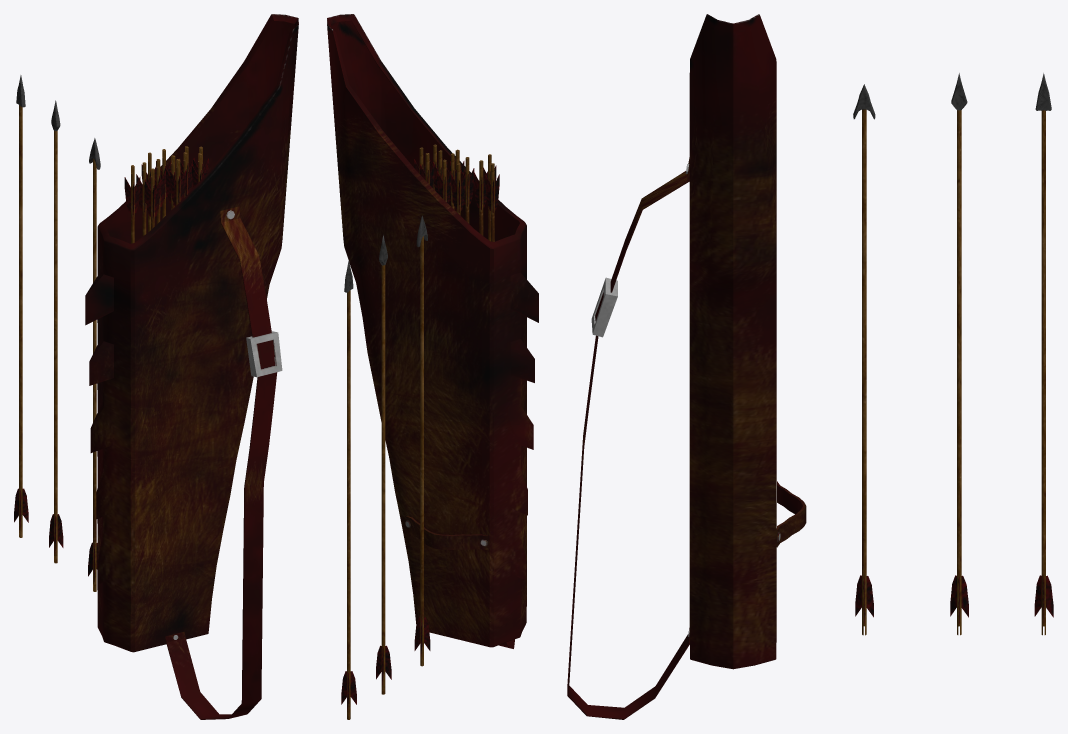
Rendered from quiver_and_arrows.glb.
The picture shows the model from 3 angles, left to right: view 1: azimuth 30°, elevation 25°; view 2: azimuth 150°, elevation 25°; view 3: azimuth 270°, elevation 25°; orthographic projection. The views are drawn at different scales.
Parts seen in each view (by area): view 1: Box014, Box013, Box009, Box001, Box015, Box018, Box023; view 2: Box014, Box009, Box001, Box013, Box015, Box016, Box017, Box019, Box020; view 3: Box014, Box013, Box001, Box009.
Part boxes in pixels (box(x1,y1,x2,y2)): Box014: box(85, 14, 298, 719); Box013: box(14, 75, 28, 537); Box009: box(49, 100, 63, 563); Box001: box(88, 138, 100, 591); Box015: box(124, 165, 140, 243); Box018: box(144, 168, 160, 229); Box023: box(170, 159, 185, 206); Box014: box(327, 14, 538, 648); Box009: box(376, 235, 391, 694); Box001: box(414, 215, 430, 666); Box013: box(341, 260, 356, 719); Box015: box(485, 163, 499, 241); Box016: box(473, 160, 487, 235); Box017: box(460, 157, 474, 223); Box019: box(451, 163, 465, 215); Box020: box(437, 159, 451, 203); Box014: box(567, 14, 806, 719); Box013: box(1034, 73, 1053, 635); Box001: box(853, 84, 875, 635); Box009: box(950, 73, 968, 635).
Size of the model in its own units: 0.7044 by 2 by 1.14.
Materials: 1 (1 with a texture image).
